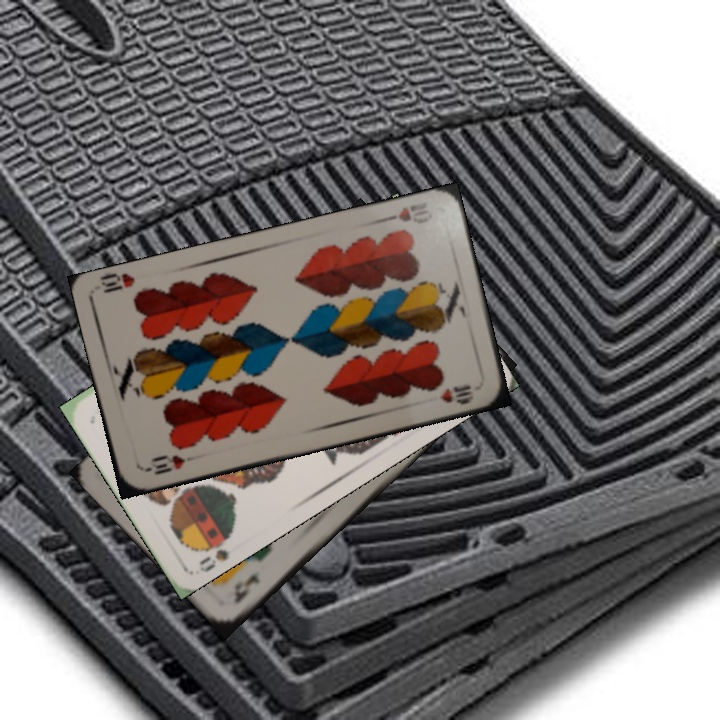EK: (230, 567, 262, 607)
H10: (378, 197, 435, 227), (141, 451, 188, 478)
SO: (191, 526, 236, 575)
